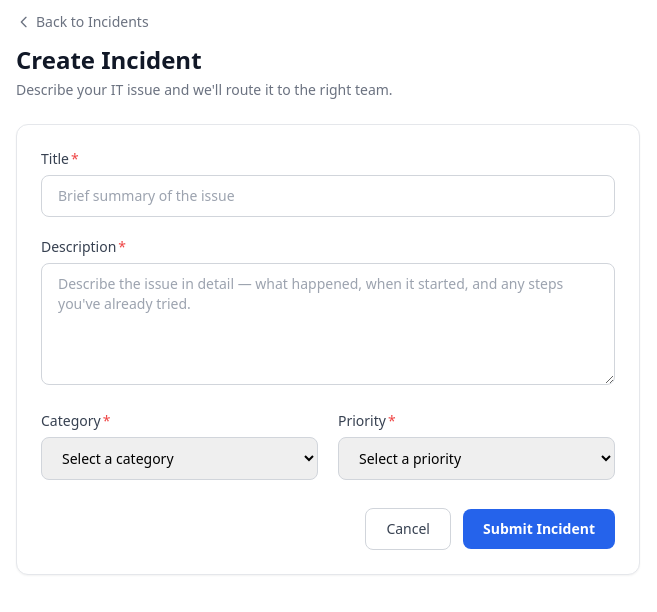
it: CreateIncidentPage › shows a priority error when not selected
The width and height of the screenshot is (657, 612).
Type "Some title" into the field labelled "Title*" at coordinates (328, 196), box [41,175,615,217]
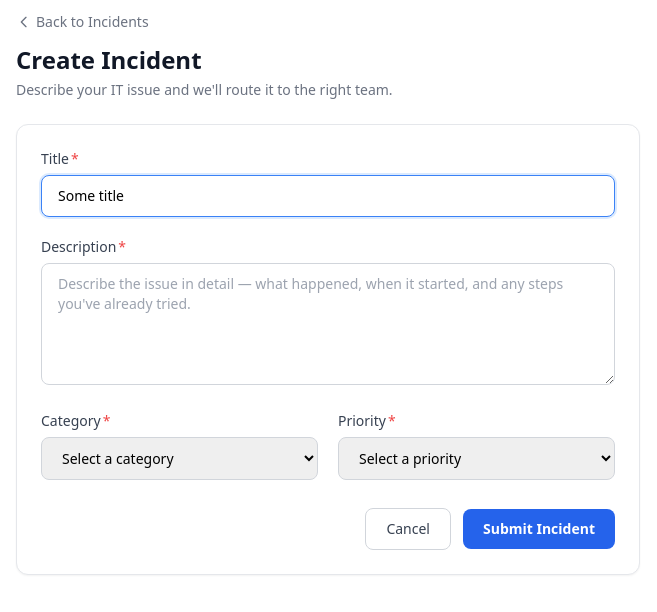
Type "Some desc" into the text box labelled "Description*" at coordinates (328, 324), box [41,263,615,385]
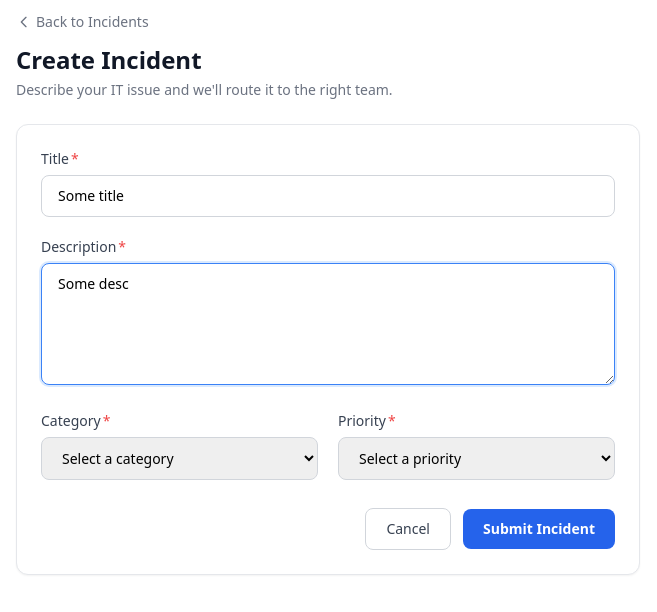
Select "Hardware" in the dropdown labelled "Category*" at coordinates (180, 458), box [41,437,318,480]
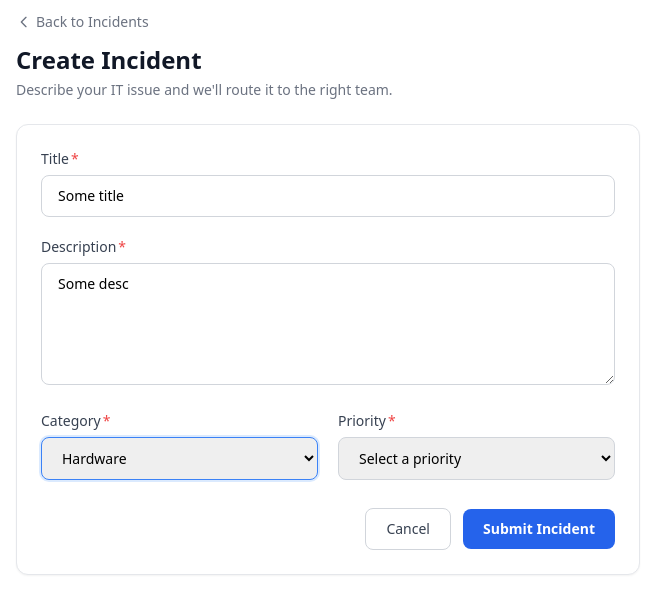
Click the button "Submit Incident" at coordinates (539, 529), box [463,509,615,549]
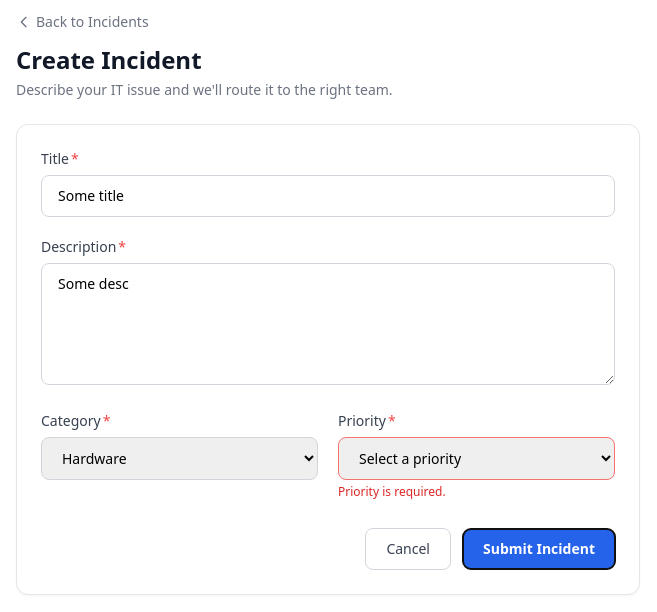
Result: the text "Priority is required." is shown at [338,483,446,500]
